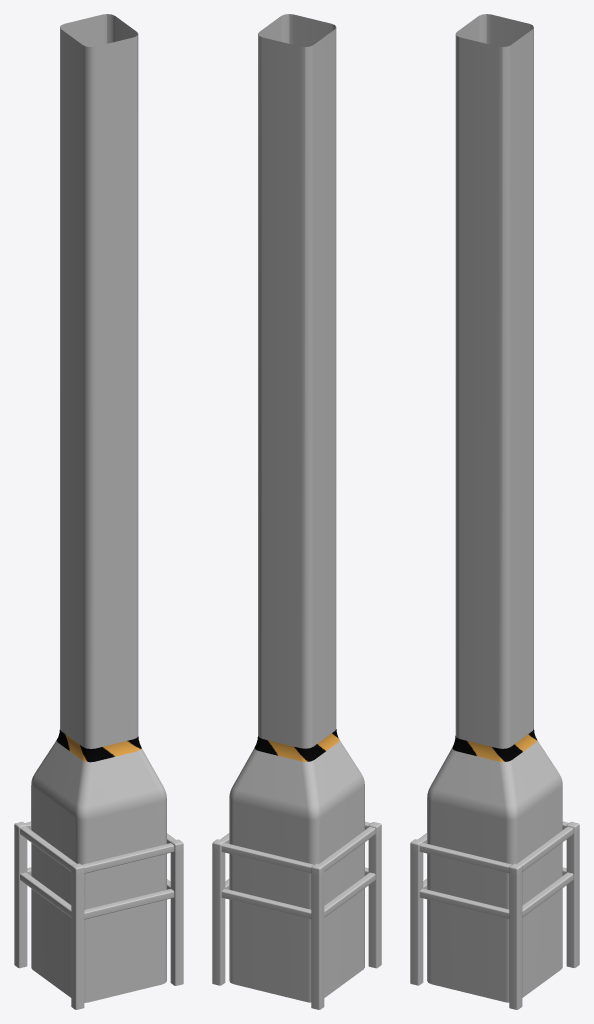
The model's file is SM_Square_Pillar.fbx.
3 views of the same model, side by side, from view 1: azimuth 30°, elevation 25°; view 2: azimuth 150°, elevation 25°; view 3: azimuth 330°, elevation 25° (orthographic).
Parts seen in each view (by area): view 1: Square_Pillar; view 2: Square_Pillar; view 3: Square_Pillar.
Part boxes in pixels (box(x1,y1,x2,y2)): Square_Pillar: box(14, 14, 183, 1009); Square_Pillar: box(212, 14, 381, 1009); Square_Pillar: box(410, 14, 579, 1009).
Size of the model in its own units: 120 by 1000 by 120.
